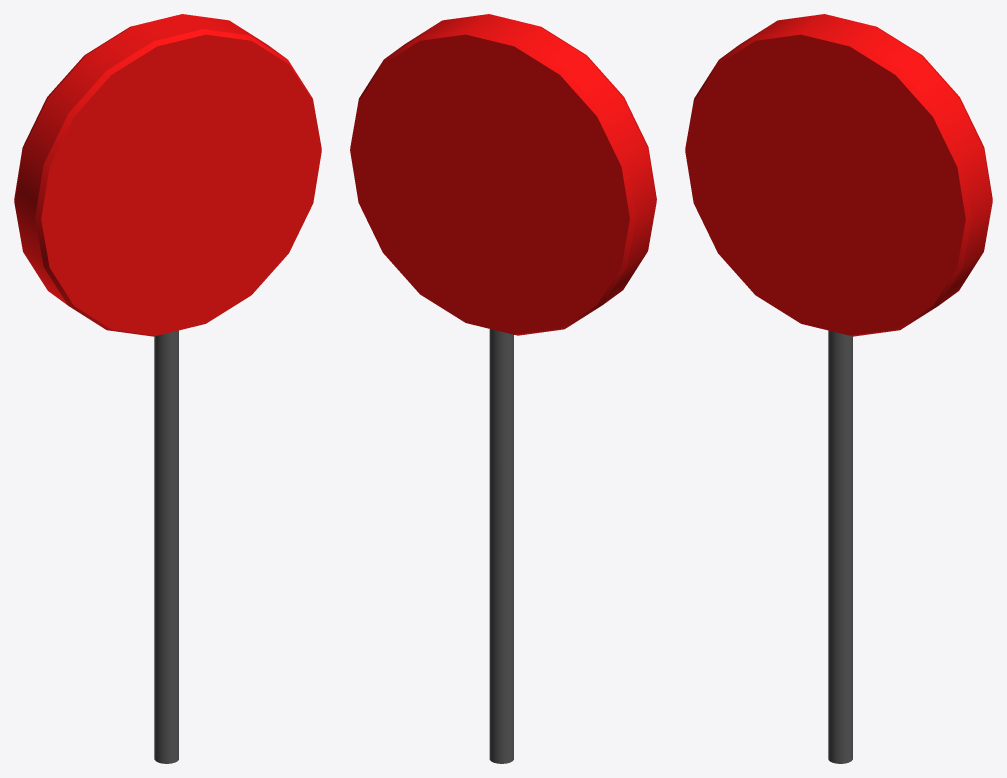
File: lolipop Red.FBX
3 renders of one model, left to right at view 1: azimuth 30°, elevation 25°; view 2: azimuth 150°, elevation 25°; view 3: azimuth 330°, elevation 25°, orthographic.
Visible parts, largest first — view 1: Cylinder002, Cylinder001; view 2: Cylinder002, Cylinder001; view 3: Cylinder002, Cylinder001.
Boxes of the visible parts, bbox=[...] form: Cylinder002: bbox=[14, 14, 321, 336]; Cylinder001: bbox=[154, 330, 178, 763]; Cylinder002: bbox=[350, 14, 656, 335]; Cylinder001: bbox=[489, 329, 513, 763]; Cylinder002: bbox=[685, 14, 992, 336]; Cylinder001: bbox=[828, 330, 852, 763].
Bounding box in the file's own units: 16.39 × 40.01 × 2.67.
